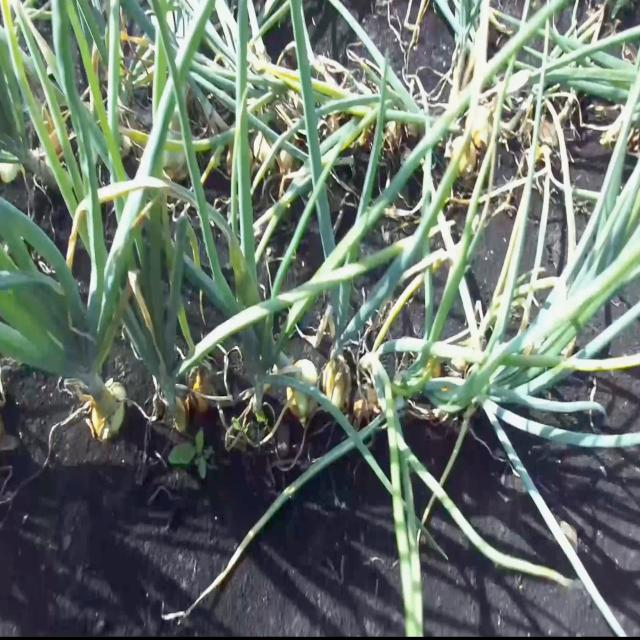onion: (85, 379, 125, 448), (284, 356, 316, 424), (323, 360, 353, 417), (464, 103, 493, 150), (449, 133, 476, 177)
